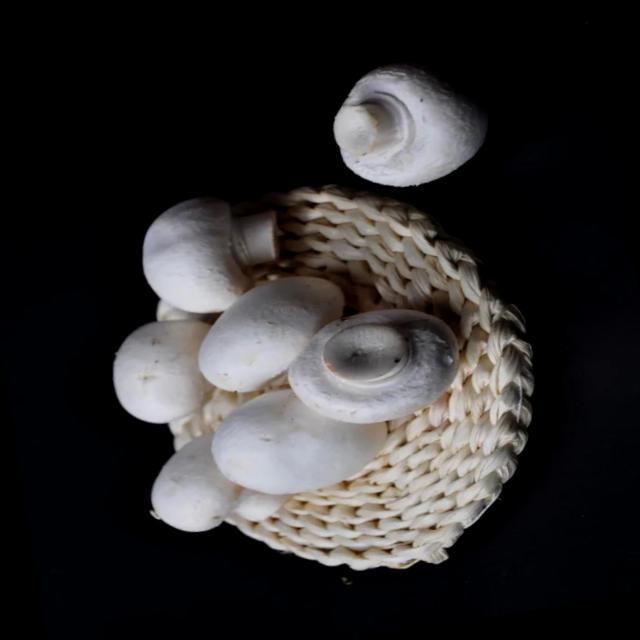Agaricus bisporus: (204, 372, 398, 503), (137, 180, 285, 323), (286, 300, 454, 422), (335, 59, 490, 190), (195, 269, 349, 389)
